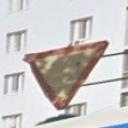preferencia: (21, 40, 111, 114)
